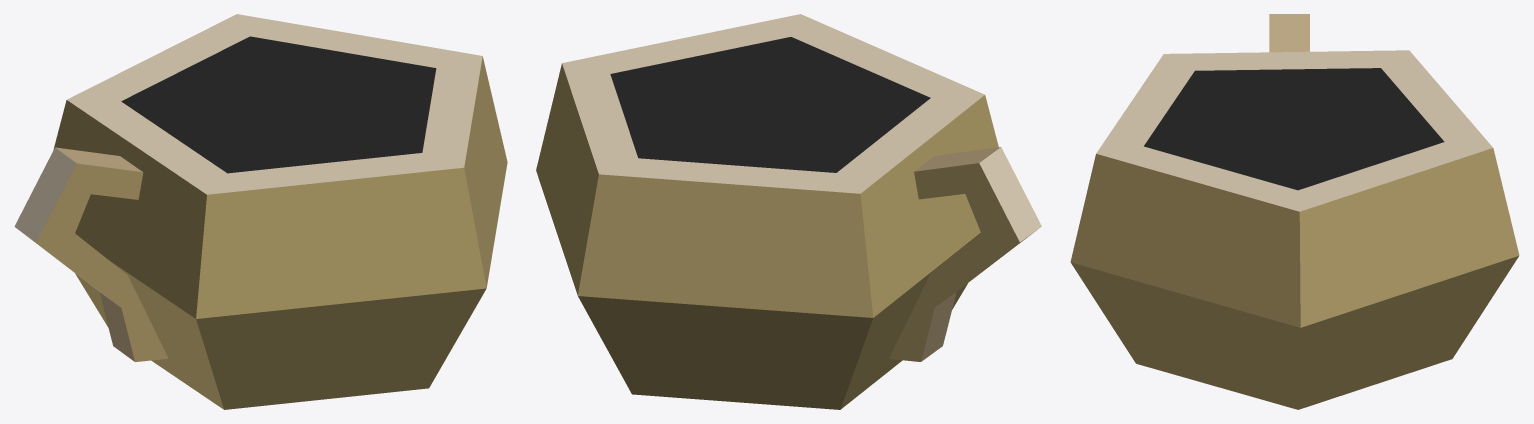
Rendered from TB_D_Prop_Jar_G.FBX.
3 renders of one model, left to right at view 1: azimuth 30°, elevation 25°; view 2: azimuth 150°, elevation 25°; view 3: azimuth 270°, elevation 25°, orthographic. The views are drawn at different scales.
Visible parts, largest first — view 1: TB_D_Prop_Jar_G; view 2: TB_D_Prop_Jar_G; view 3: TB_D_Prop_Jar_G.
Boxes of the visible parts, box(x1,y1,x2,y2) form: TB_D_Prop_Jar_G: box(14, 14, 507, 409); TB_D_Prop_Jar_G: box(536, 14, 1041, 409); TB_D_Prop_Jar_G: box(1070, 14, 1519, 409).
Size of the model in its own units: 0.9734 by 0.4585 by 0.8366.
